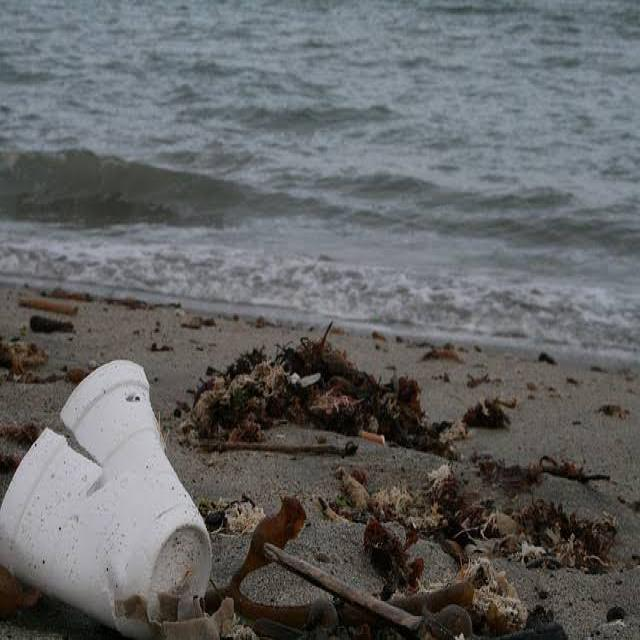plastic: (0, 332, 216, 638)
